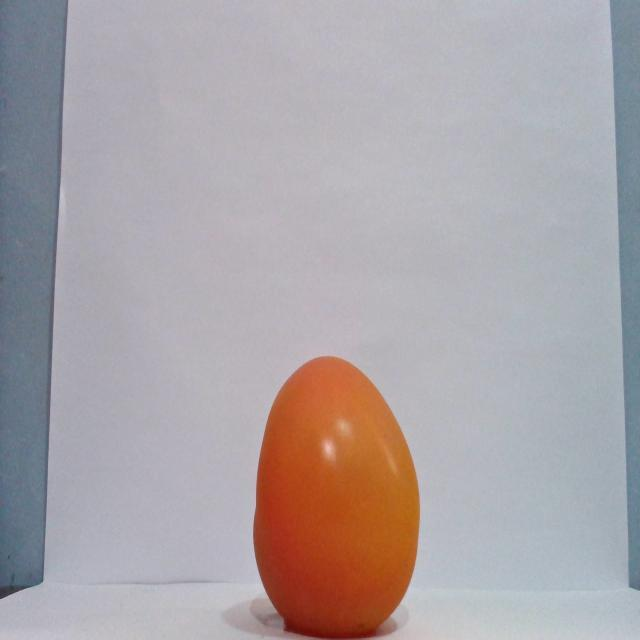Red: (251, 353, 421, 637)
